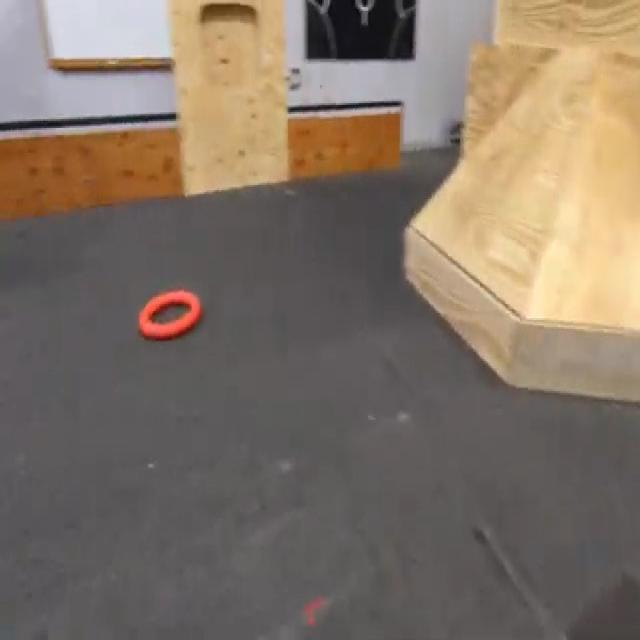note: (136, 288, 202, 339)
